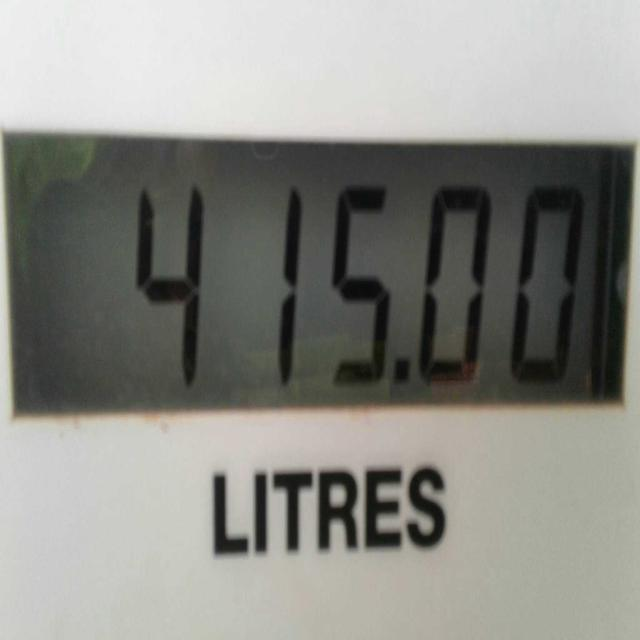.: (384, 344, 414, 396)
0: (414, 184, 500, 394), (512, 176, 589, 399)
1: (255, 172, 312, 380)
4: (128, 176, 231, 405)
5: (313, 176, 395, 400)
